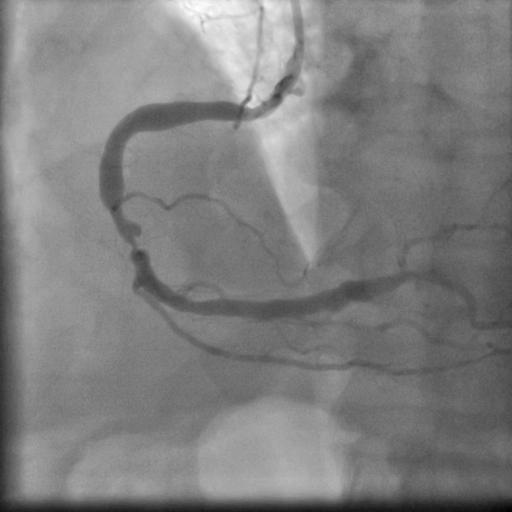Stenosis: (105, 215, 149, 259)
